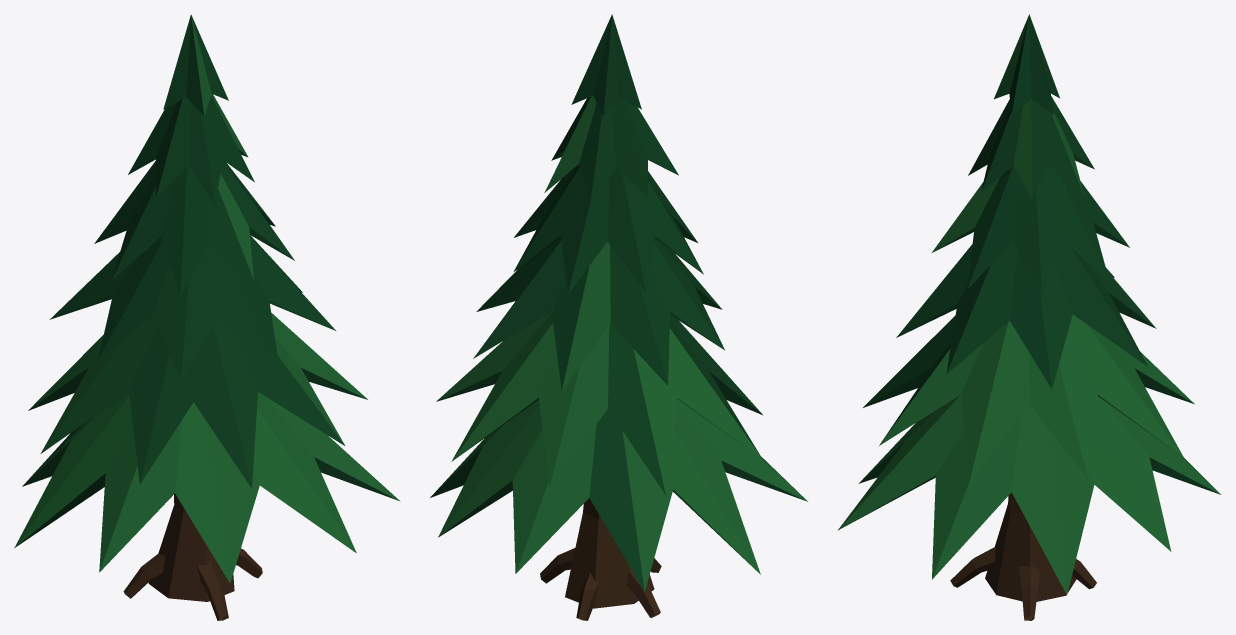
File: tree_pine.glb
The picture shows the model from 3 angles, left to right: view 1: azimuth 30°, elevation 25°; view 2: azimuth 150°, elevation 25°; view 3: azimuth 270°, elevation 25°; orthographic projection.
Visible parts, largest first — view 1: TreePine; view 2: TreePine; view 3: TreePine.
Boxes of the visible parts, x1,y1,x2,y2 form: TreePine: (14, 14, 400, 620); TreePine: (430, 14, 807, 620); TreePine: (838, 14, 1220, 620).
Size of the model in its own units: 3.33 by 5.69 by 3.44.
